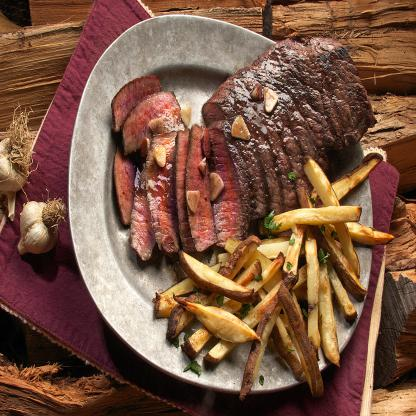Carne: (204, 25, 376, 220), (176, 119, 212, 256), (145, 124, 177, 261), (112, 89, 184, 137), (206, 113, 231, 250), (126, 155, 154, 264)
